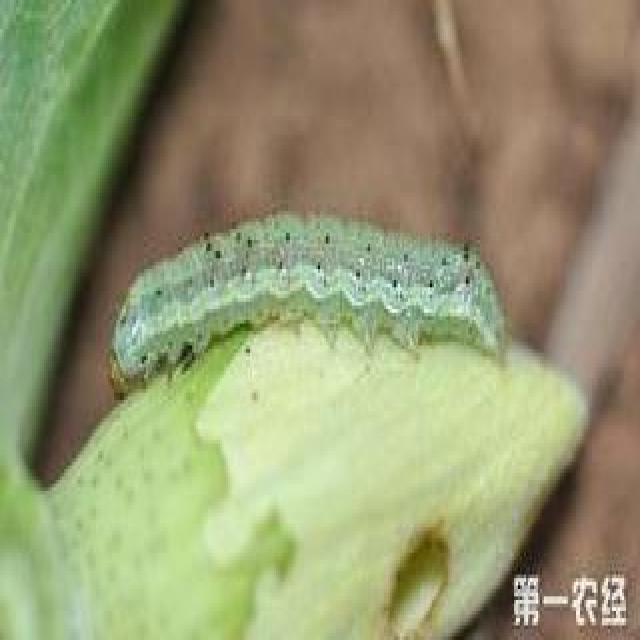BeetArmyWorm-Larva-: (102, 195, 510, 400)
